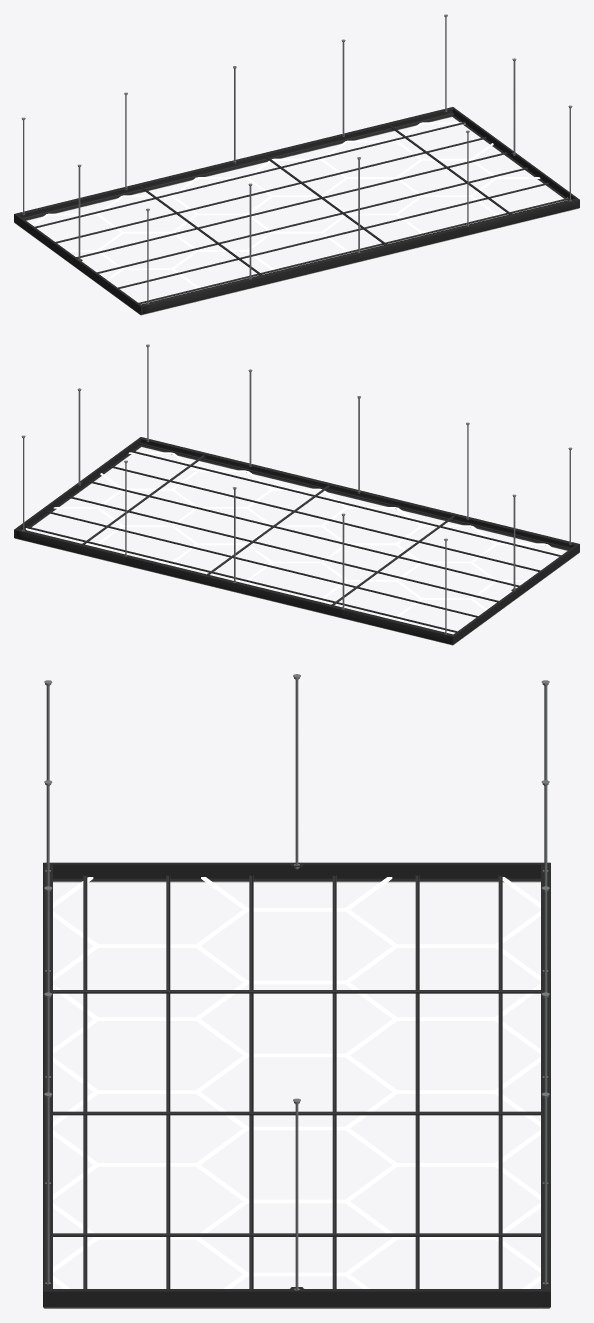
Rendered from lighting_overheadLed_hexGrid_a01.glb.
3 renders of one model, top to bottom at view 1: azimuth 30°, elevation 25°; view 2: azimuth 150°, elevation 25°; view 3: azimuth 270°, elevation 25°, orthographic. The views are drawn at different scales.
Parts seen in each view (by area): view 1: body_01_mesh_00; view 2: body_01_mesh_00; view 3: body_01_mesh_00.
Boxes of the visible parts, bbox=[...] form: body_01_mesh_00: bbox=[14, 14, 579, 315]; body_01_mesh_00: bbox=[14, 344, 579, 645]; body_01_mesh_00: bbox=[43, 674, 550, 1308].
Size of the model in its own units: 4.8 by 1.08 by 2.4.
5 materials, 3 textured.
